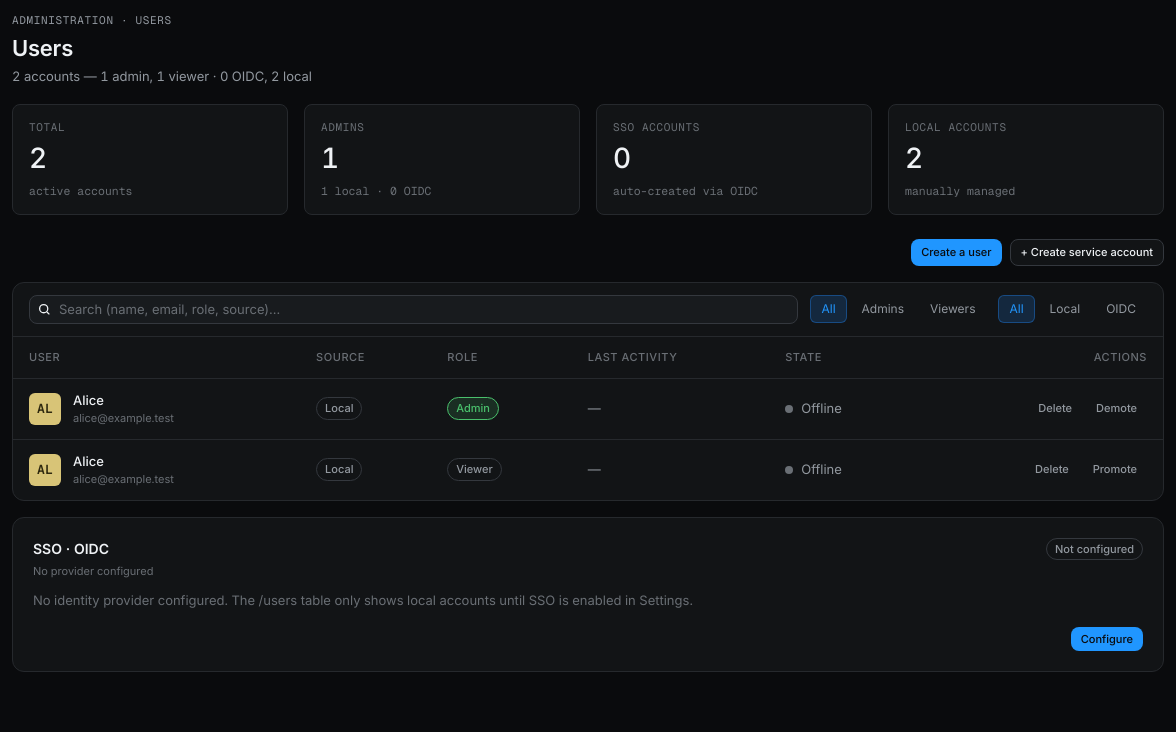
/utilisateurs — filters › role chips narrow to admins / viewers
The width and height of the screenshot is (1176, 732).
Click the button "Admins" at (883,309), box 851,295 -> 915,323
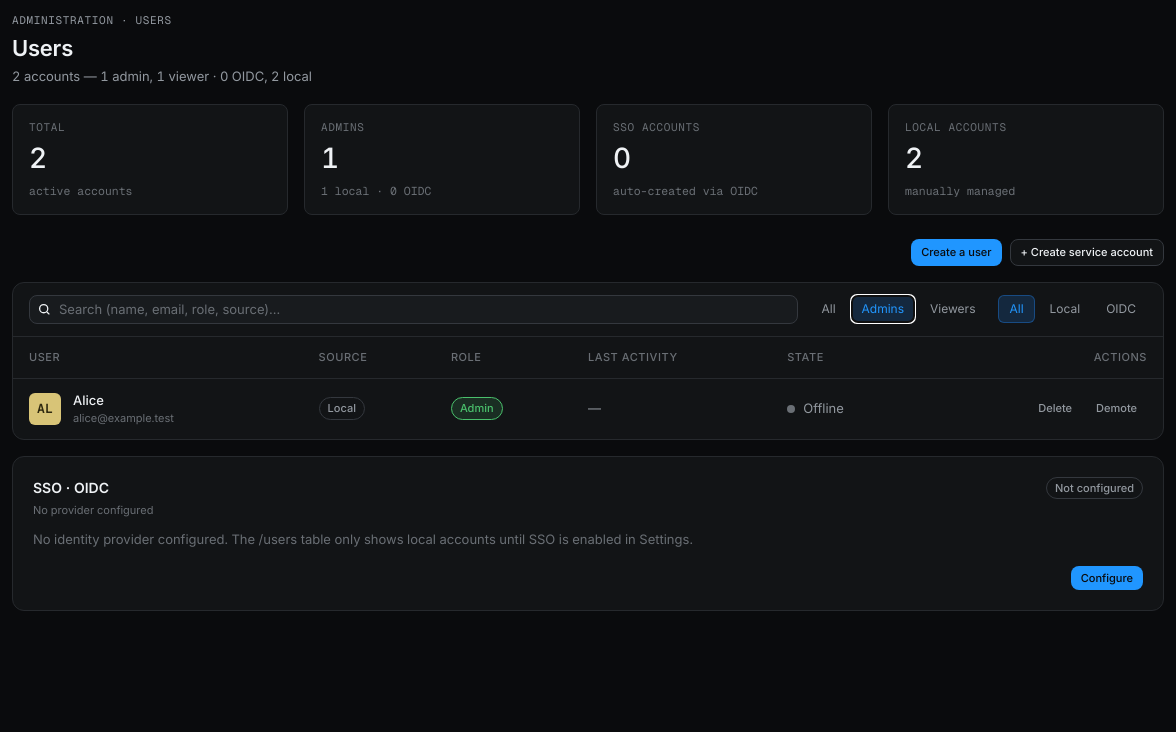
Expected: the row with test id "user-row-u1" is shown, 13,378 -> 1163,439
Expected: the row with test id "user-row-u2" is gone
